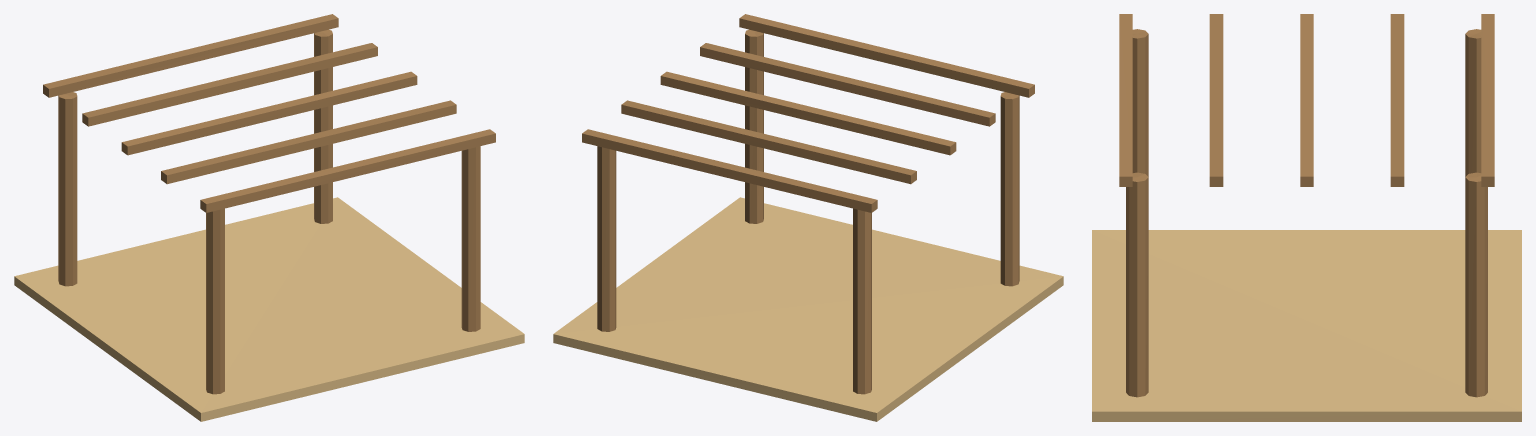
The model's file is pergola.source.glb.
3 renders of one model, left to right at view 1: azimuth 30°, elevation 25°; view 2: azimuth 150°, elevation 25°; view 3: azimuth 270°, elevation 25°, orthographic. The views are drawn at different scales.
Visible parts, largest first — view 1: pergola-pad-mesh, pergola-slat-0-mesh, pergola-slat--1.6-mesh, pergola-slat--0.8-mesh, pergola-slat-0.8-mesh, pergola-slat-1.6-mesh, pergola-post--1.5--1.5-mesh, pergola-post-1.5-1.5-mesh, pergola-post--1.5-1.5-mesh, pergola-post-1.5--1.5-mesh; view 2: pergola-pad-mesh, pergola-slat-0-mesh, pergola-slat-1.6-mesh, pergola-slat--1.6-mesh, pergola-slat--0.8-mesh, pergola-slat-0.8-mesh, pergola-post--1.5-1.5-mesh, pergola-post-1.5--1.5-mesh, pergola-post--1.5--1.5-mesh, pergola-post-1.5-1.5-mesh; view 3: pergola-pad-mesh, pergola-post-1.5--1.5-mesh, pergola-post-1.5-1.5-mesh, pergola-slat--0.8-mesh, pergola-slat-0.8-mesh, pergola-post--1.5--1.5-mesh, pergola-post--1.5-1.5-mesh, pergola-slat--1.6-mesh, pergola-slat-0-mesh, pergola-slat-1.6-mesh.
Part boxes in pixels (left/top/right/bottom): pergola-pad-mesh: left=14, top=197, right=524, bottom=421; pergola-slat-0-mesh: left=121, top=71, right=417, bottom=155; pergola-slat--1.6-mesh: left=43, top=14, right=338, bottom=97; pergola-slat--0.8-mesh: left=82, top=43, right=377, bottom=126; pergola-slat-0.8-mesh: left=161, top=100, right=456, bottom=184; pergola-slat-1.6-mesh: left=200, top=129, right=495, bottom=212; pergola-post--1.5--1.5-mesh: left=58, top=92, right=77, bottom=286; pergola-post-1.5-1.5-mesh: left=461, top=146, right=480, bottom=331; pergola-post--1.5-1.5-mesh: left=206, top=208, right=224, bottom=394; pergola-post-1.5--1.5-mesh: left=314, top=29, right=332, bottom=223; pergola-pad-mesh: left=553, top=197, right=1063, bottom=421; pergola-slat-0-mesh: left=660, top=71, right=956, bottom=155; pergola-slat-1.6-mesh: left=739, top=14, right=1034, bottom=97; pergola-slat--1.6-mesh: left=582, top=129, right=877, bottom=212; pergola-slat--0.8-mesh: left=621, top=100, right=916, bottom=184; pergola-slat-0.8-mesh: left=700, top=43, right=995, bottom=126; pergola-post--1.5-1.5-mesh: left=1000, top=92, right=1019, bottom=286; pergola-post-1.5--1.5-mesh: left=597, top=146, right=616, bottom=331; pergola-post--1.5--1.5-mesh: left=853, top=208, right=871, bottom=394; pergola-post-1.5-1.5-mesh: left=745, top=29, right=763, bottom=223; pergola-pad-mesh: left=1092, top=230, right=1521, bottom=421; pergola-post-1.5--1.5-mesh: left=1465, top=172, right=1487, bottom=397; pergola-post-1.5-1.5-mesh: left=1126, top=172, right=1148, bottom=397; pergola-slat--0.8-mesh: left=1390, top=14, right=1404, bottom=186; pergola-slat-0.8-mesh: left=1209, top=14, right=1223, bottom=186; pergola-post--1.5--1.5-mesh: left=1465, top=29, right=1481, bottom=176; pergola-post--1.5-1.5-mesh: left=1132, top=29, right=1148, bottom=176; pergola-slat--1.6-mesh: left=1481, top=14, right=1494, bottom=186; pergola-slat-0-mesh: left=1300, top=14, right=1313, bottom=186; pergola-slat-1.6-mesh: left=1119, top=14, right=1132, bottom=186.
Bounding box in the file's own units: 3.8 × 2.3 × 3.8.
